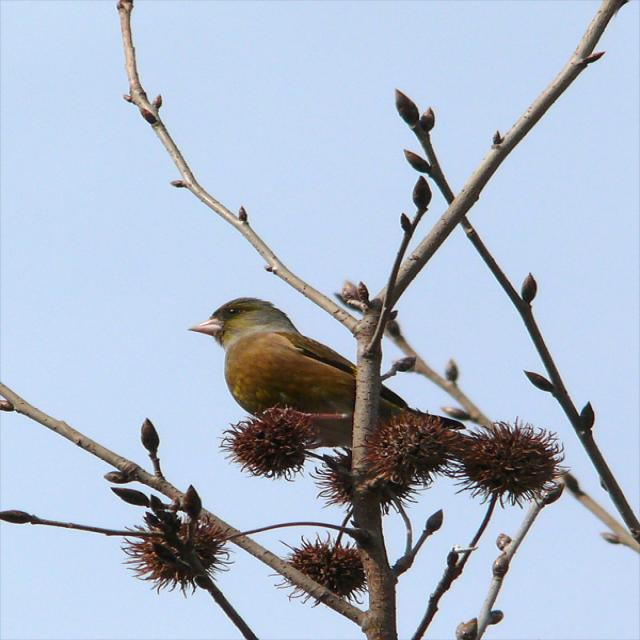bird: (188, 299, 469, 437)
